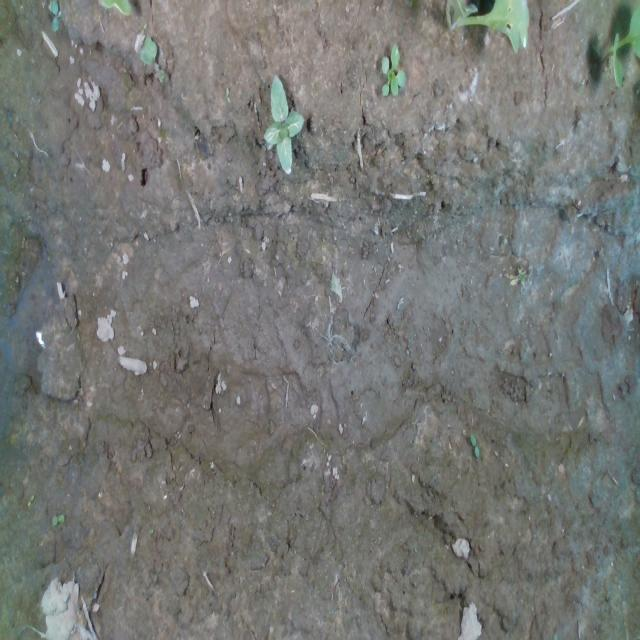weed: (464, 430, 484, 460), (49, 511, 71, 527), (24, 492, 37, 506)
